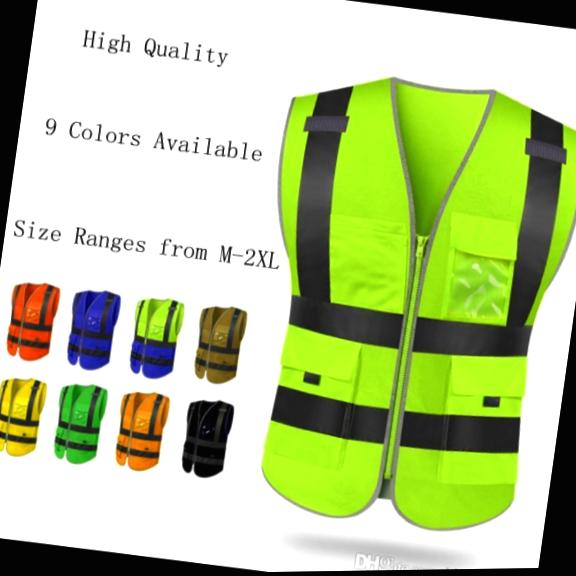safety_vest: (231, 57, 576, 547), (62, 282, 123, 373), (126, 293, 186, 380), (112, 387, 172, 474), (2, 278, 60, 362), (190, 303, 248, 387), (52, 381, 108, 465), (178, 399, 234, 478), (0, 375, 47, 460)
